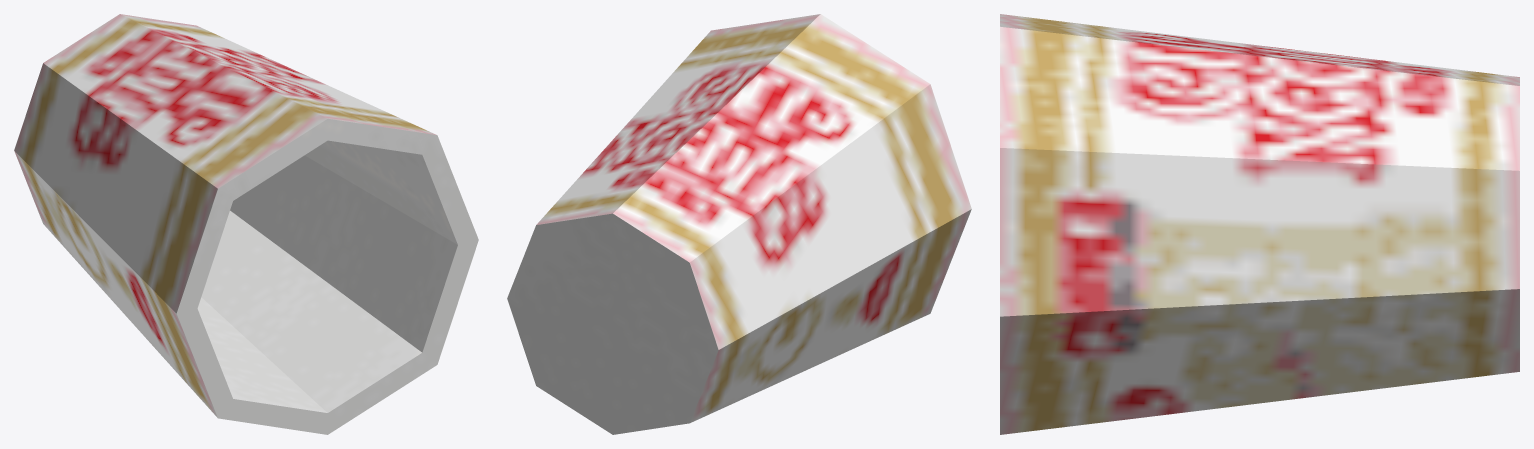
File: Cup of Noodles (Opened-Empty).obj
The picture shows the model from 3 angles, left to right: view 1: azimuth 30°, elevation 25°; view 2: azimuth 150°, elevation 25°; view 3: azimuth 270°, elevation 25°; orthographic projection. The views are drawn at different scales.
Visible parts, largest first — view 1: Cup_Empty; view 2: Cup_Empty; view 3: Cup_Empty.
Part boxes in pixels (box(x1,y1,x2,y2)): Cup_Empty: box(14, 14, 478, 434); Cup_Empty: box(507, 14, 971, 434); Cup_Empty: box(1000, 14, 1519, 434).
Bounding box in the file's own units: 1.68 × 1.68 × 2.
Materials: 1 (1 with a texture image).
